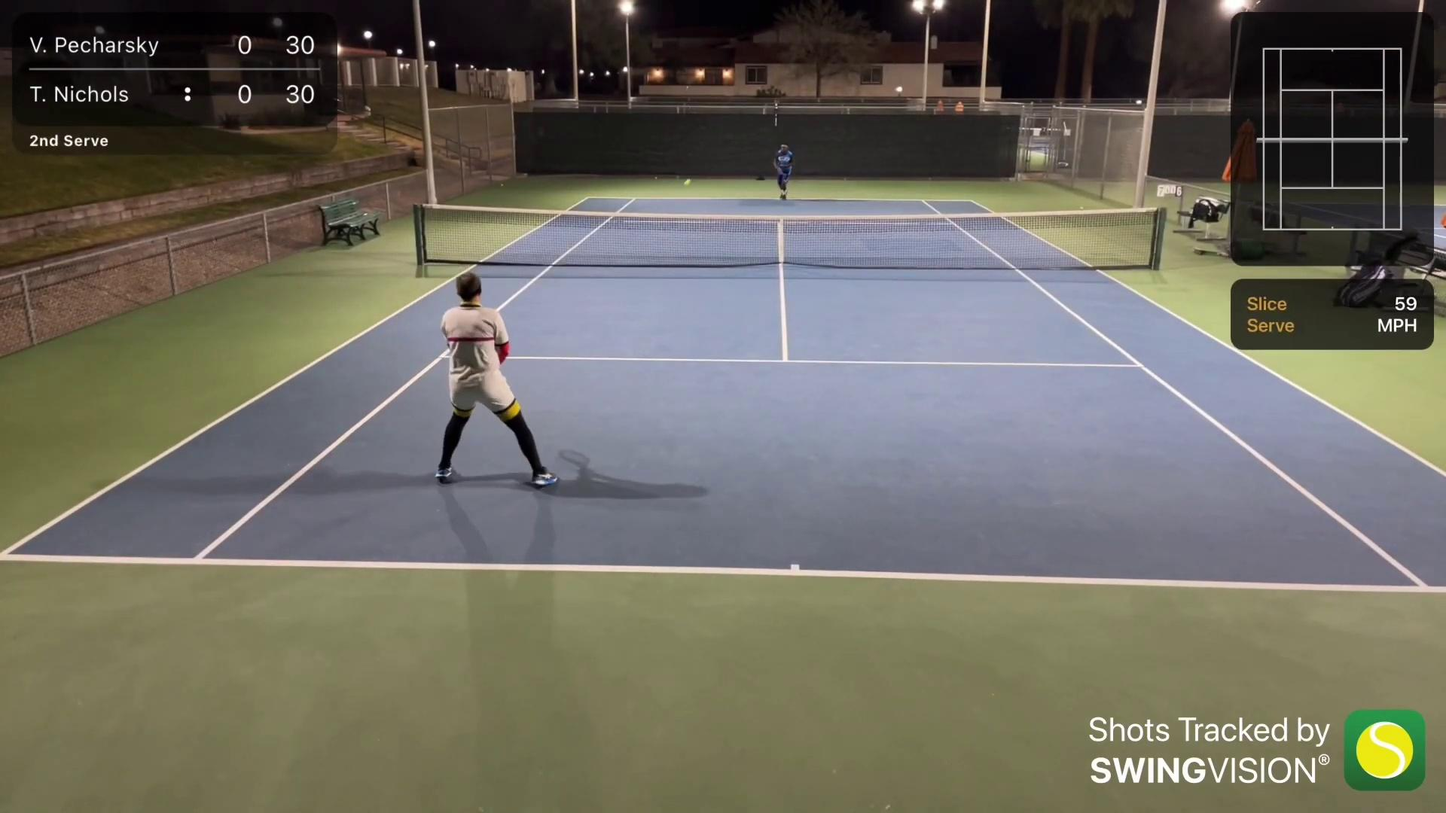ball: (682, 181, 689, 186), (654, 176, 659, 181), (500, 183, 505, 188)
